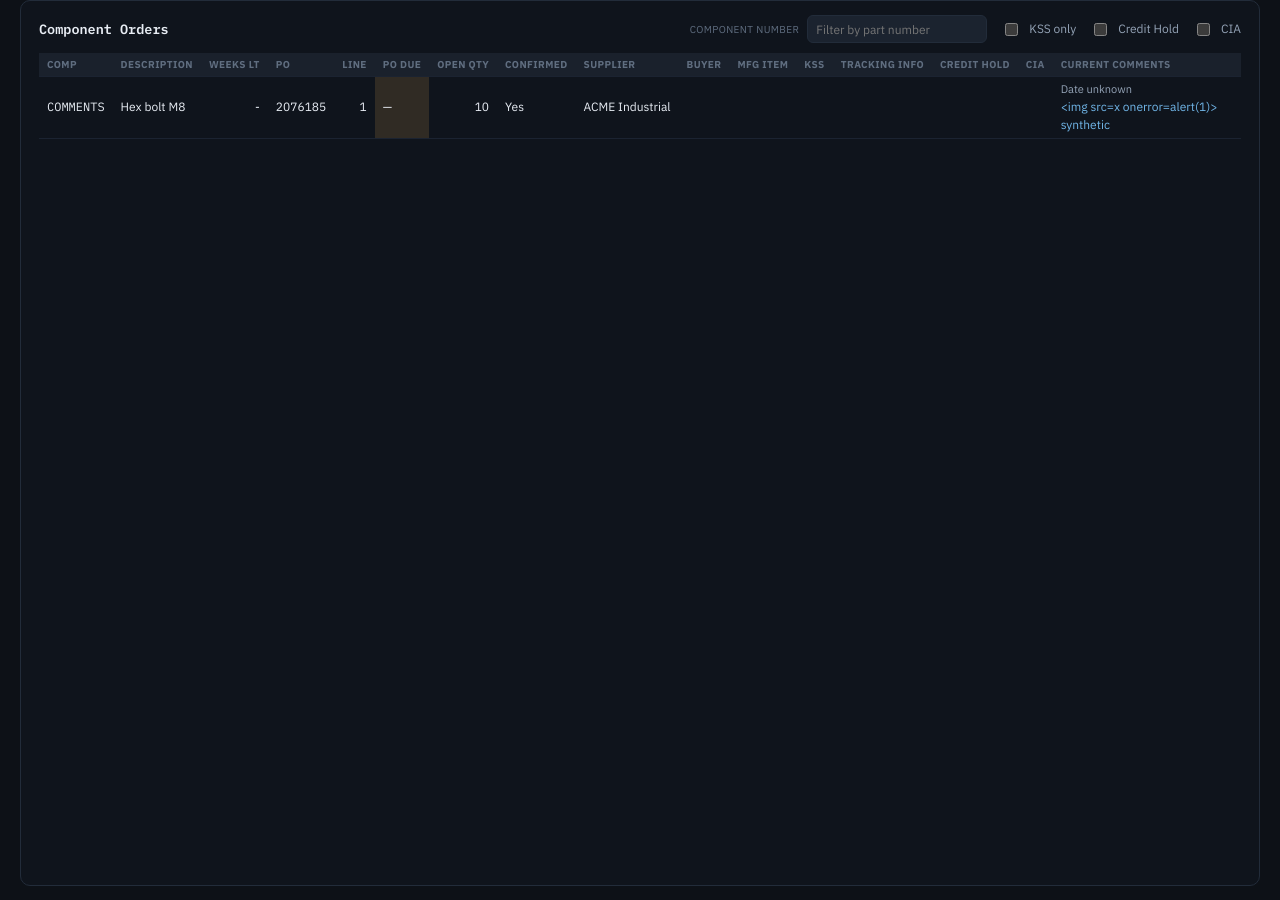
Test: ComponentOrdersPanel delivered filters › preserves undated fallback and explicit empty newest comments (empty=false)
Step 1. Click the button with aria-label "View comments for COMMENTS" → (1147, 107), box [1061, 81, 1233, 134]
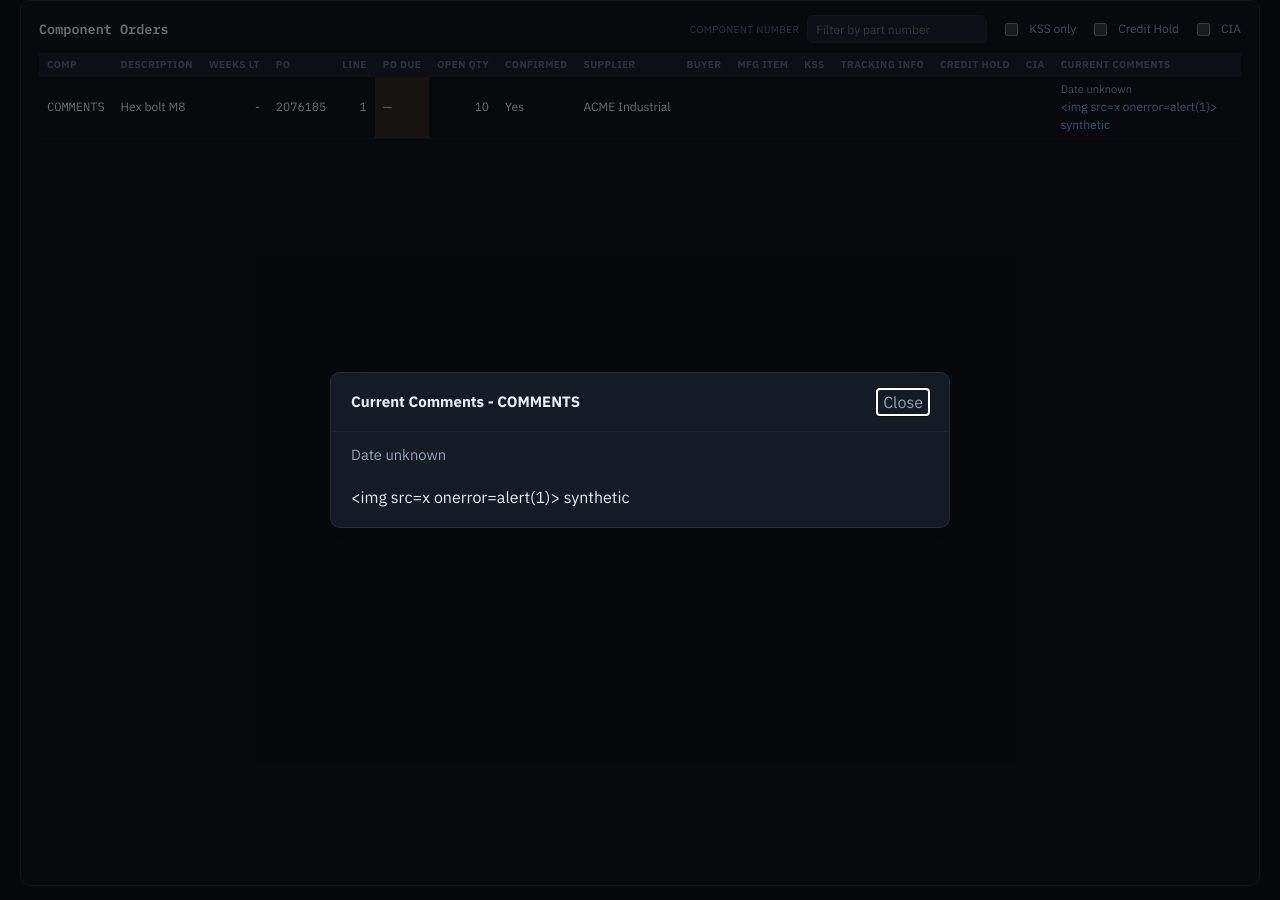
Result: the text "Date unknown" is shown at [351, 446, 446, 464]
Result: the text "<img src=x onerror=alert(1)> synthetic" is shown at [351, 486, 630, 506]
